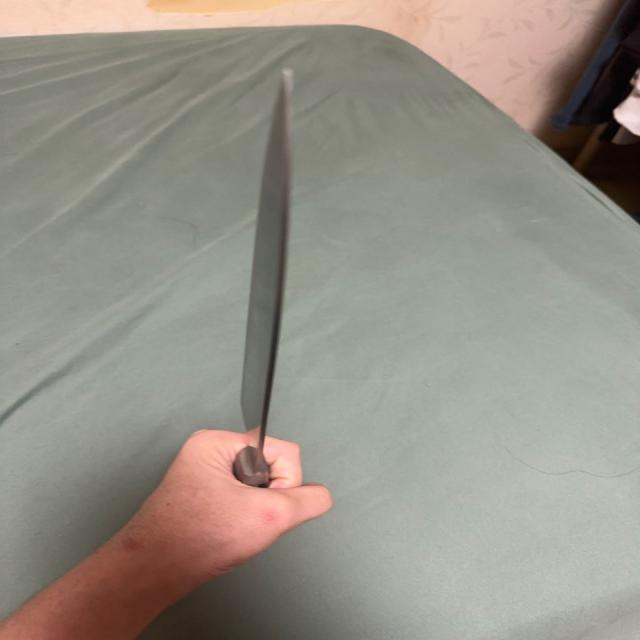knife: (222, 62, 304, 490)
